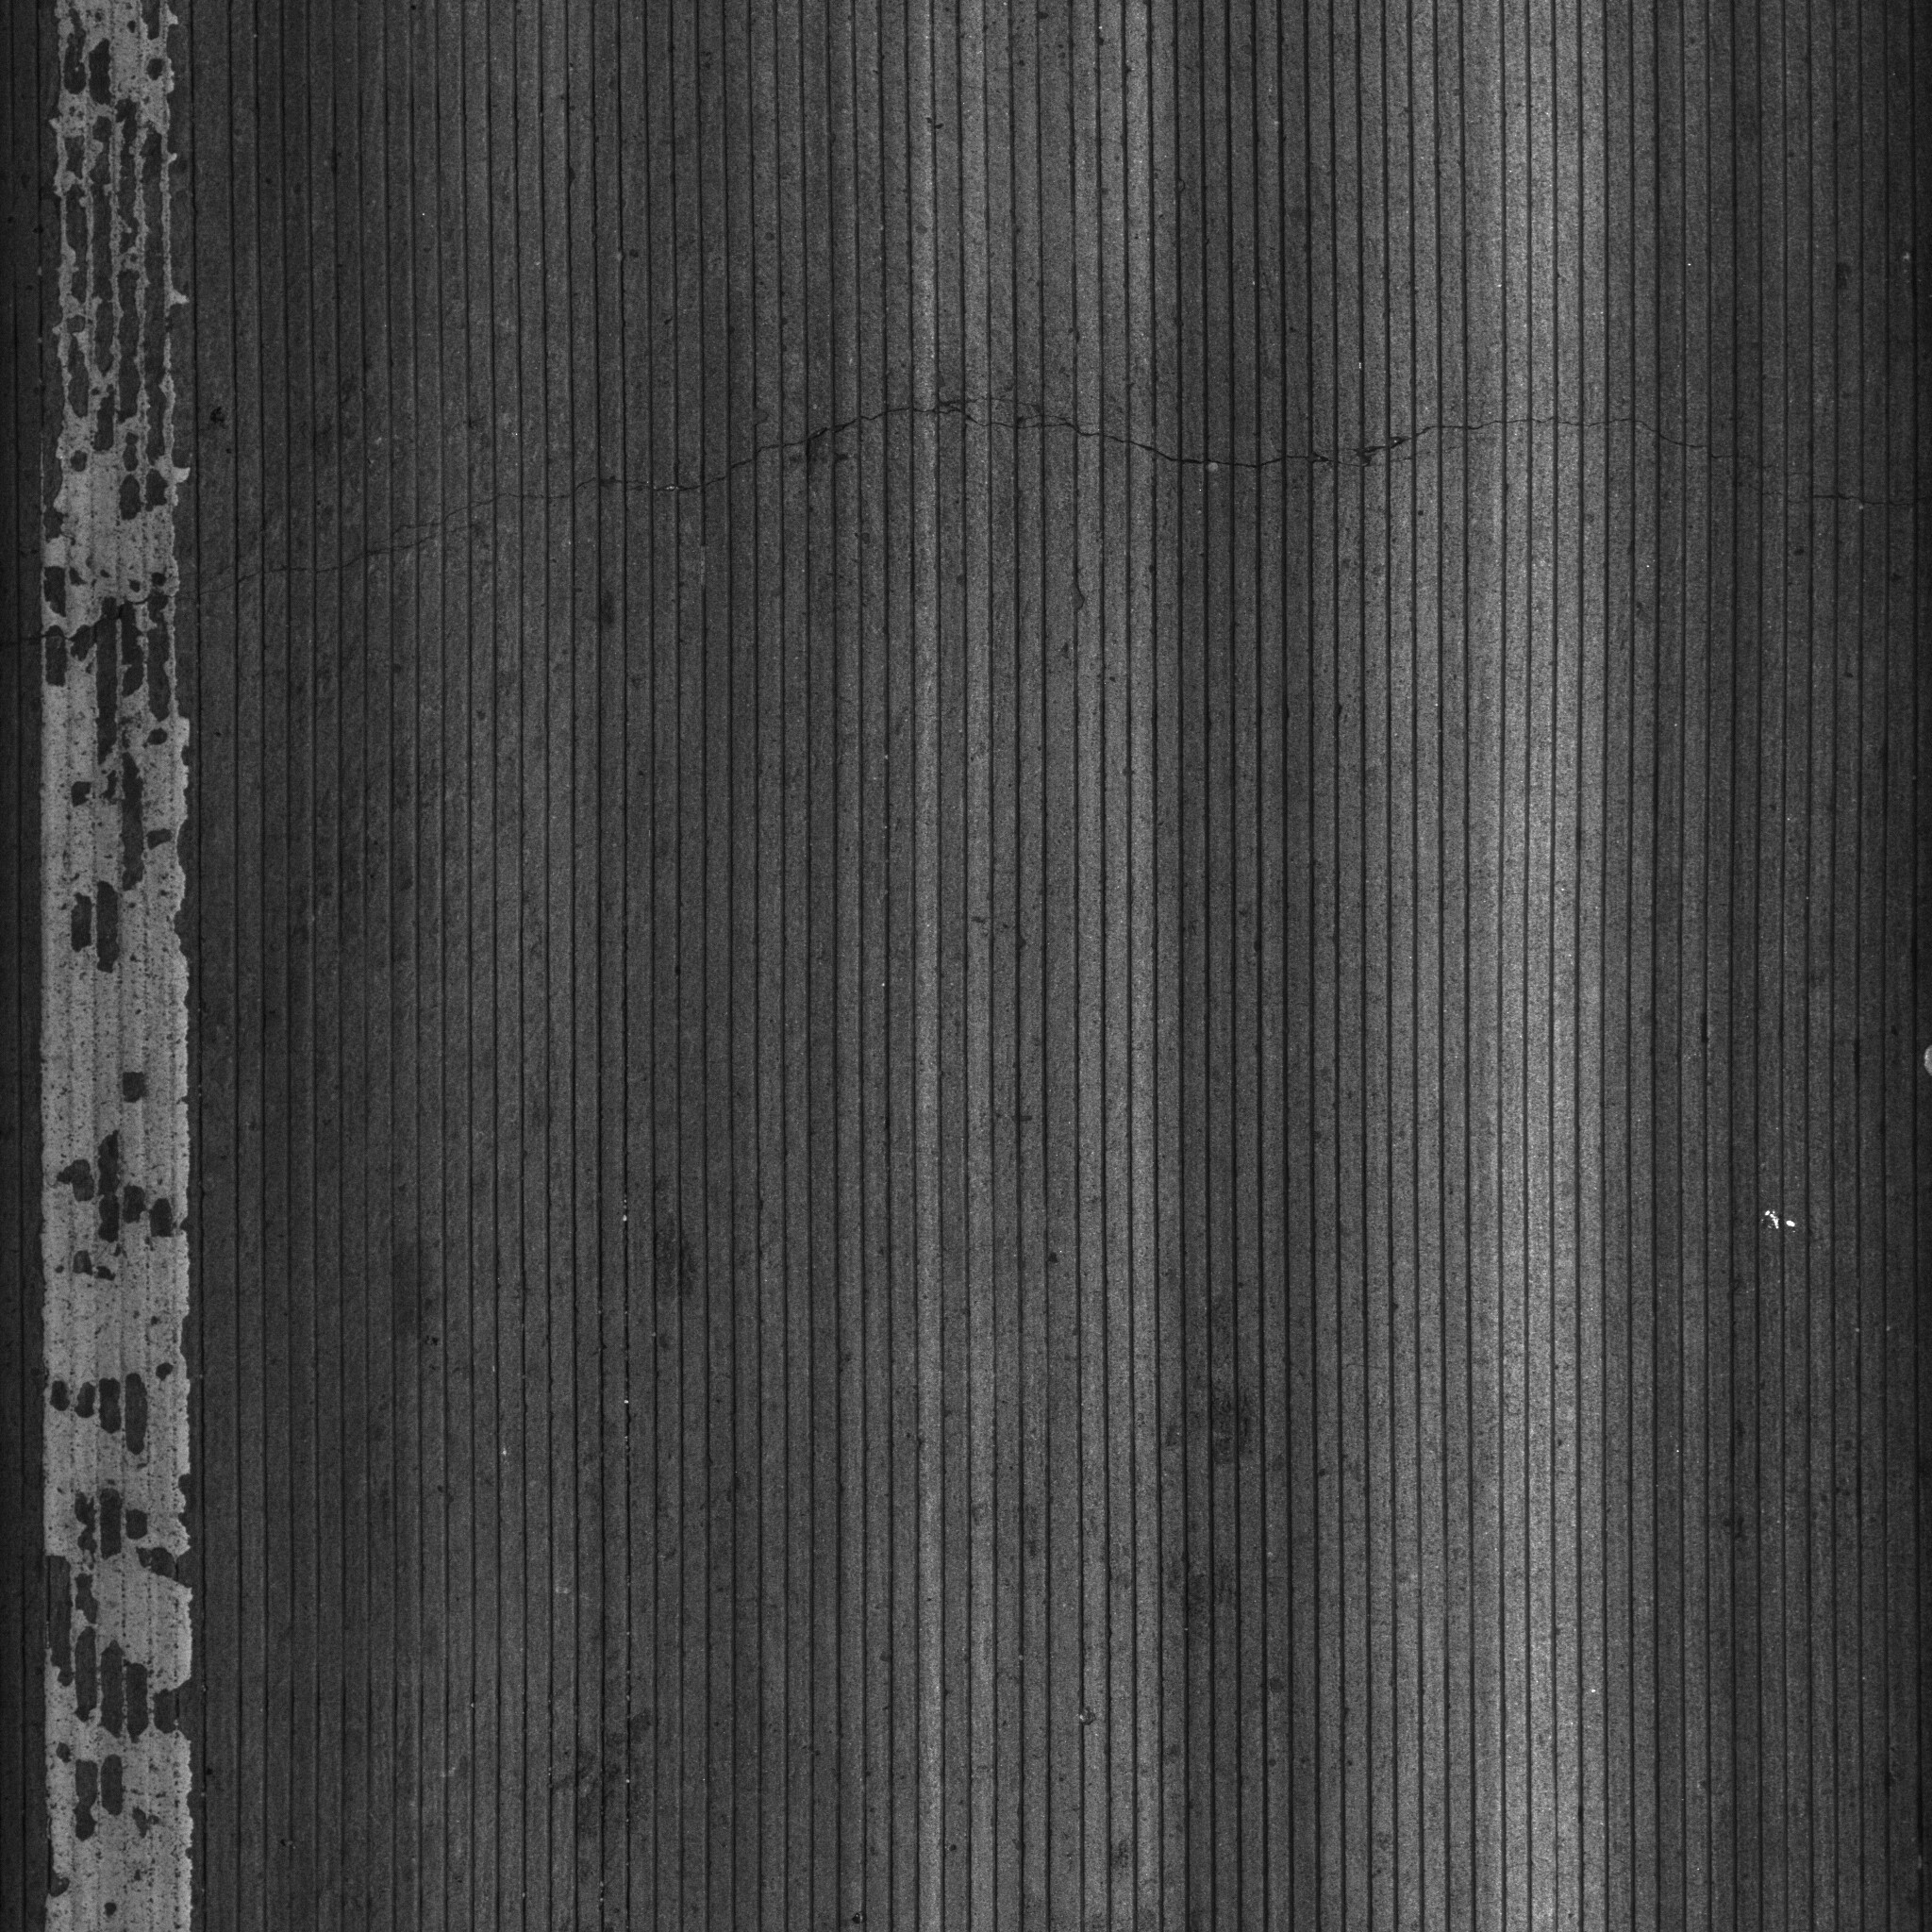transverse: (129, 382, 1897, 610)
